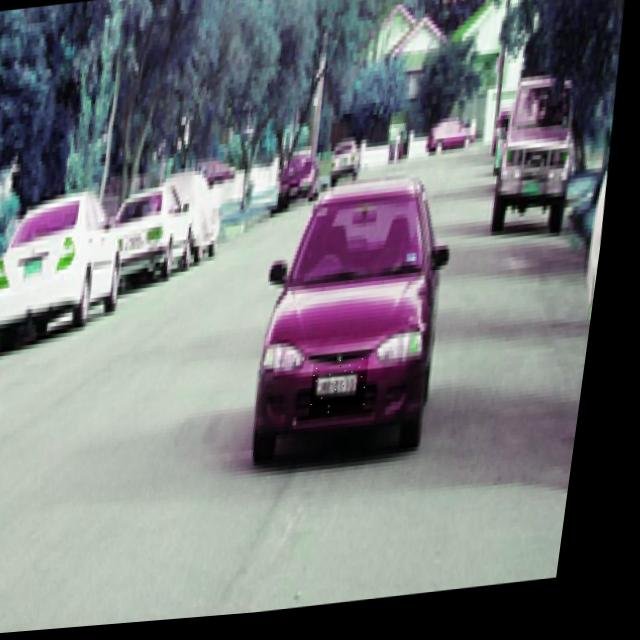license_plate: (319, 363, 381, 422)
